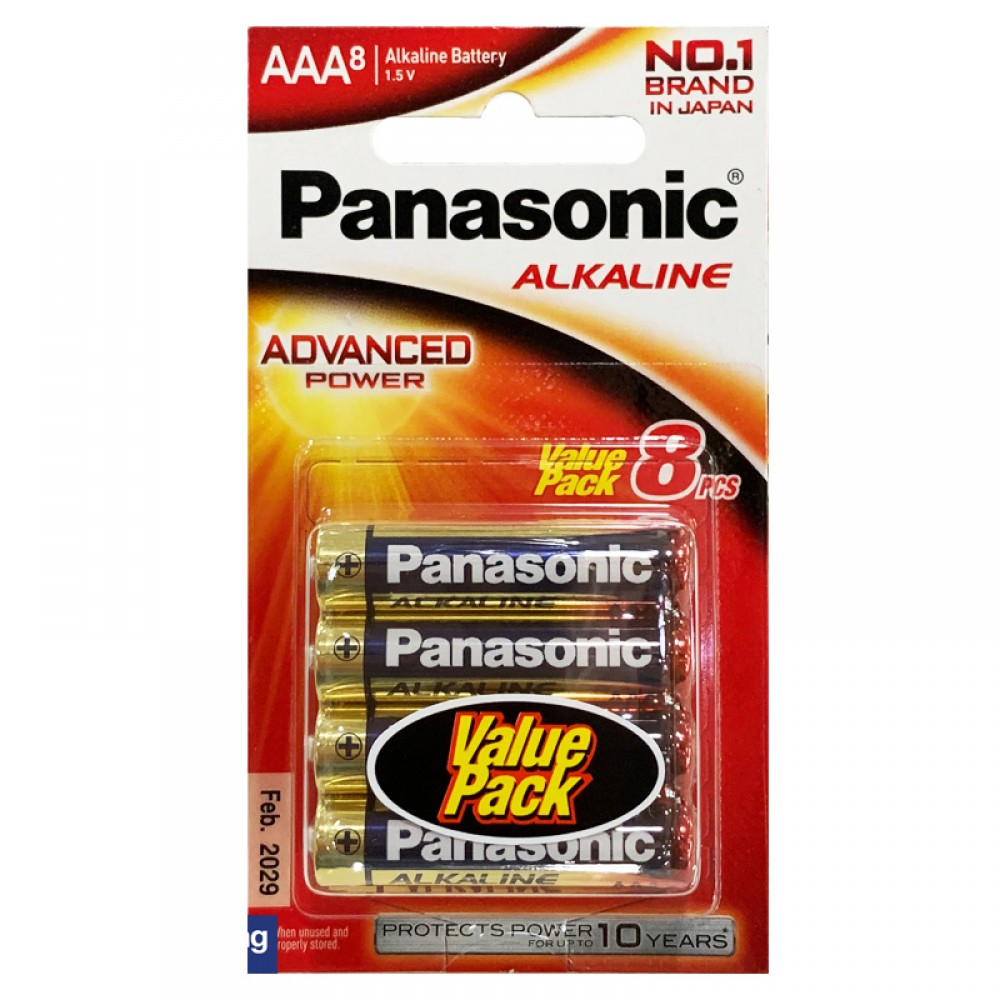Battery: (308, 522, 684, 611), (304, 616, 686, 696)
